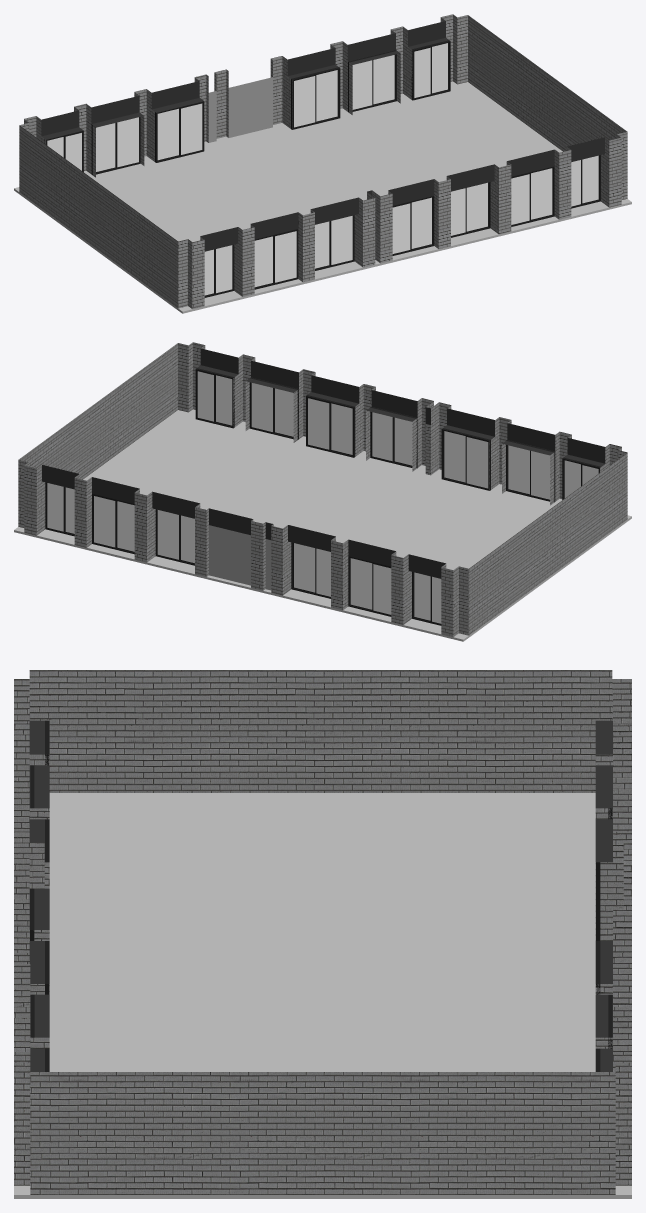
File: MSH_Piso_14.FBX
The picture shows the model from 3 angles, top to bottom: view 1: azimuth 30°, elevation 25°; view 2: azimuth 150°, elevation 25°; view 3: azimuth 270°, elevation 25°; orthographic projection. The views are drawn at different scales.
Parts seen in each view (by area): view 1: MSH_Piso_14; view 2: MSH_Piso_14; view 3: MSH_Piso_14.
Boxes of the visible parts, x1,y1,x2,y2 form: MSH_Piso_14: [14, 14, 631, 313]; MSH_Piso_14: [14, 342, 631, 641]; MSH_Piso_14: [14, 670, 631, 1198].
Size of the model in its own units: 2244 by 330 by 1458.
